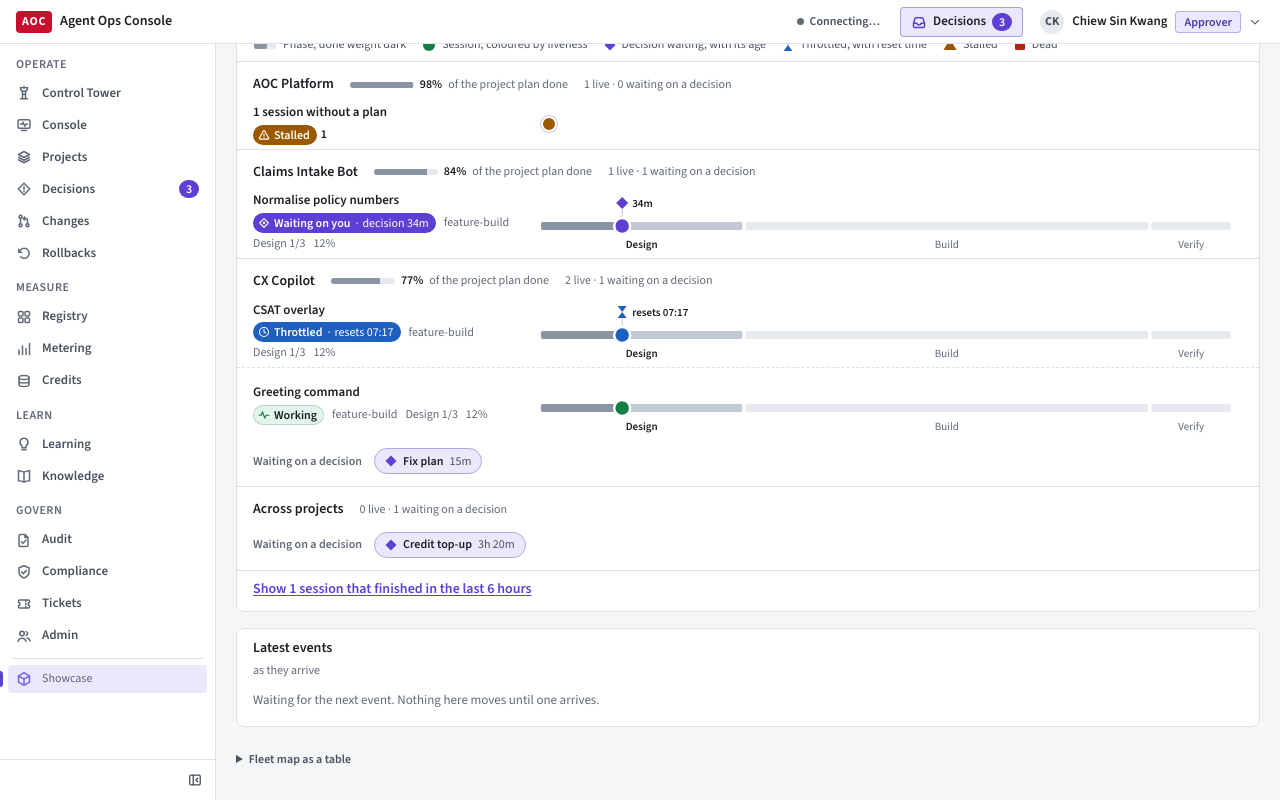
Test: showcase › draws each session on its own plan, with every mark available as text
(page scrolled)
Expected: the headings read "AOC Platform", "Claims Intake Bot", "CX Copilot", "Across projects", in this order, left=253, top=74, right=334, bottom=95; left=253, top=162, right=358, bottom=182; left=253, top=271, right=315, bottom=291; left=253, top=499, right=344, bottom=520
Expected: the text "Credit top-up" is shown, left=403, top=536, right=472, bottom=553
Click the button "Show 1 session that finished in the last 6 hours" at [392, 589], box left=253, top=578, right=532, bottom=599
(page scrolled)
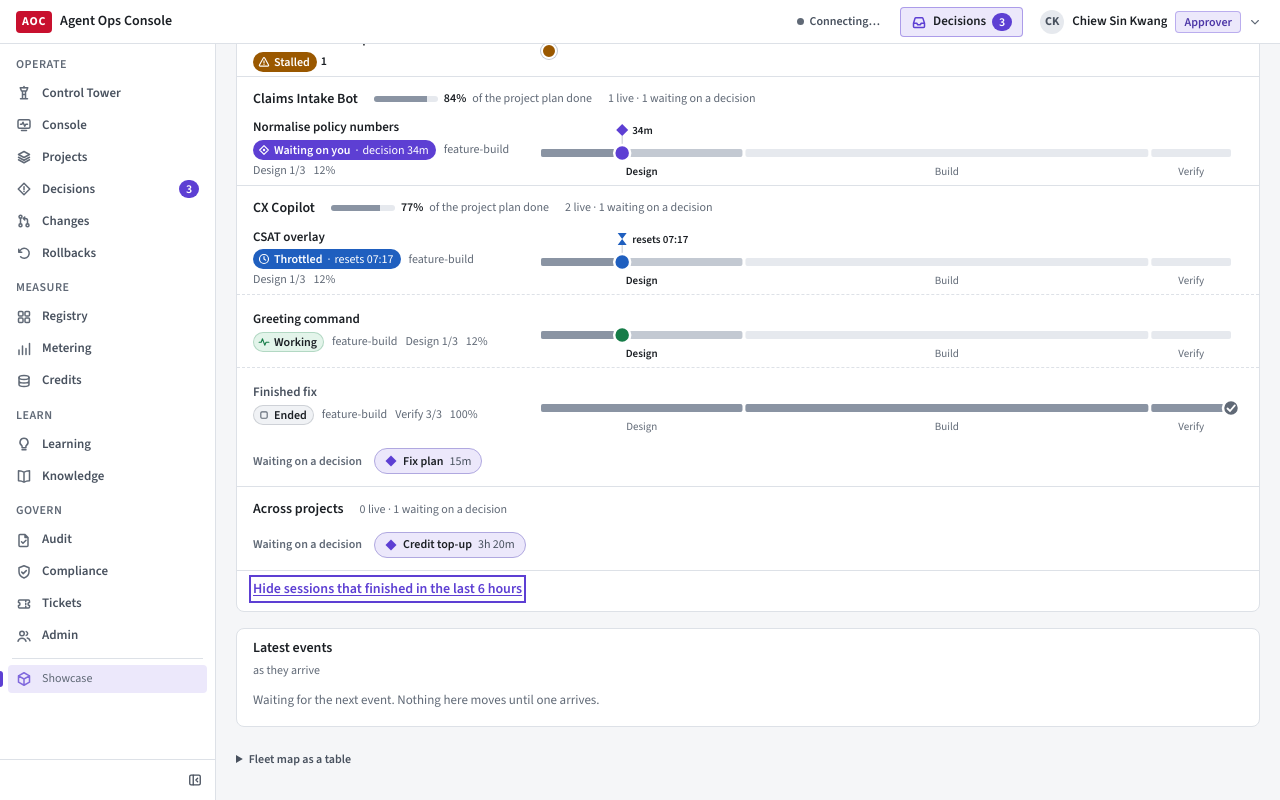
Expected: the heading "Fleet map as a table" is shown, left=236, top=751, right=351, bottom=768
Now the picture named "Finished fix: finished" is shown, box left=529, top=372, right=1243, bottom=436
